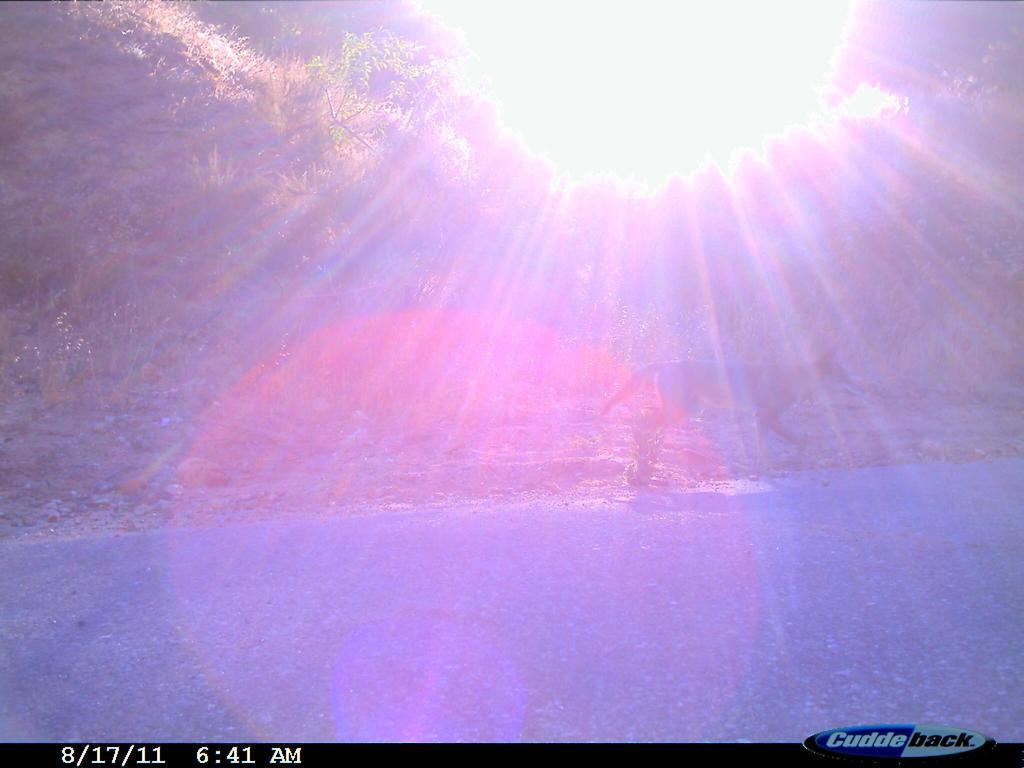coyote: (592, 337, 873, 496)
